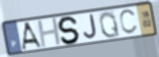A: (21, 21, 43, 51)
C: (119, 8, 139, 36)
H: (36, 17, 63, 50)
J: (82, 13, 99, 40)
Q: (98, 10, 122, 39)
S: (57, 16, 82, 45)
